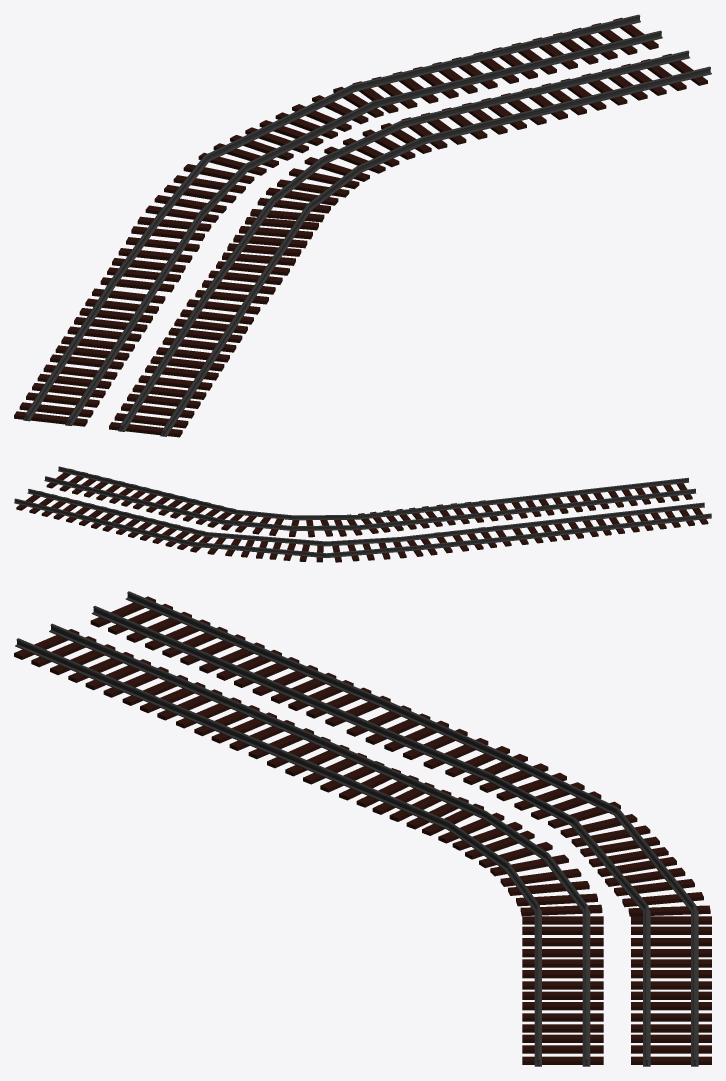
Rendered from rail_double_virage45.obj.
3 renders of one model, top to bottom at view 1: azimuth 30°, elevation 25°; view 2: azimuth 150°, elevation 25°; view 3: azimuth 270°, elevation 25°, orthographic. The views are drawn at different scales.
Visible parts, largest first — view 1: rail.001_Plane.004, rail.003_Plane.002, rail.002_Plane.005, rail_Plane; view 2: rail.003_Plane.002, rail.001_Plane.004, rail.002_Plane.005, rail_Plane; view 3: rail.001_Plane.004, rail.003_Plane.002, rail.002_Plane.005, rail_Plane.
Boxes of the visible parts, box(x1,y1,x2,y2) form: rail.001_Plane.004: box(14, 279, 260, 437); rail.003_Plane.002: box(352, 14, 711, 149); rail.002_Plane.005: box(100, 84, 383, 292); rail_Plane: box(195, 120, 431, 304); rail.003_Plane.002: box(14, 466, 236, 549); rail.001_Plane.004: box(490, 477, 711, 544); rail.002_Plane.005: box(190, 525, 513, 562); rail_Plane: box(221, 500, 498, 537); rail.001_Plane.004: box(14, 591, 390, 759); rail.003_Plane.002: box(522, 905, 711, 1066); rail.002_Plane.005: box(346, 701, 710, 916); rail_Plane: box(267, 733, 602, 916).
Size of the model in its own units: 33.9 by 0.3549 by 21.26.
